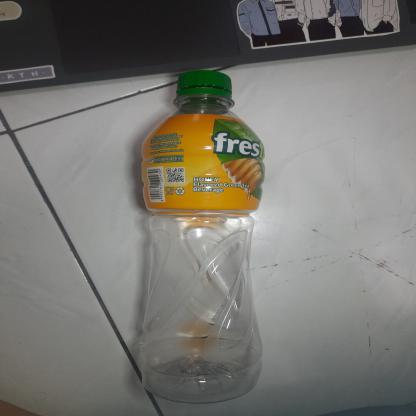bottle: (129, 67, 269, 404)
